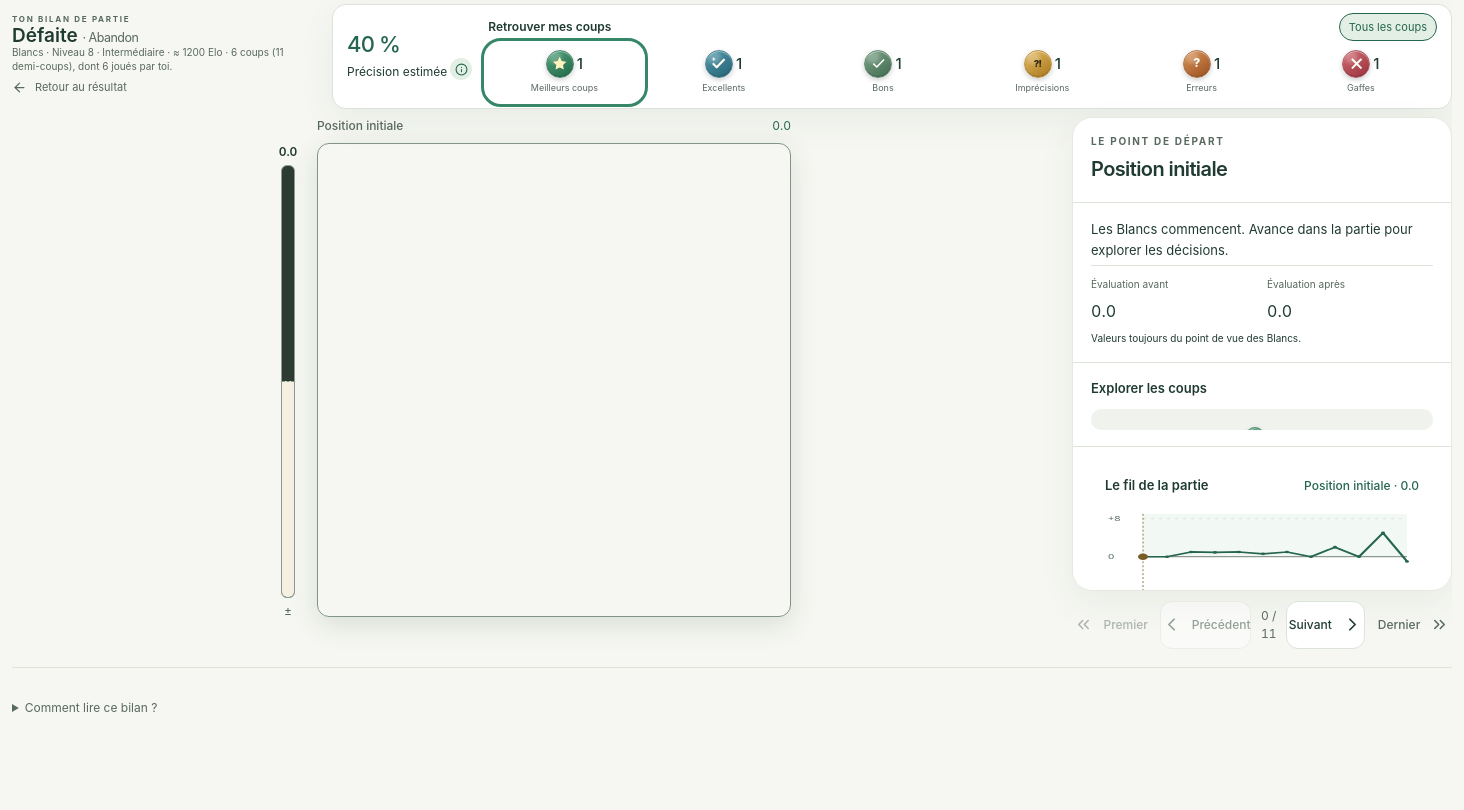
Test: Bilan : filtres de classifications synchronisés › n’affiche aucune alternative quand le coup joué était déjà le meilleur
Click the button with aria-label "Meilleurs coups, 1 coup" at (564, 72), box [488,45,641,100]
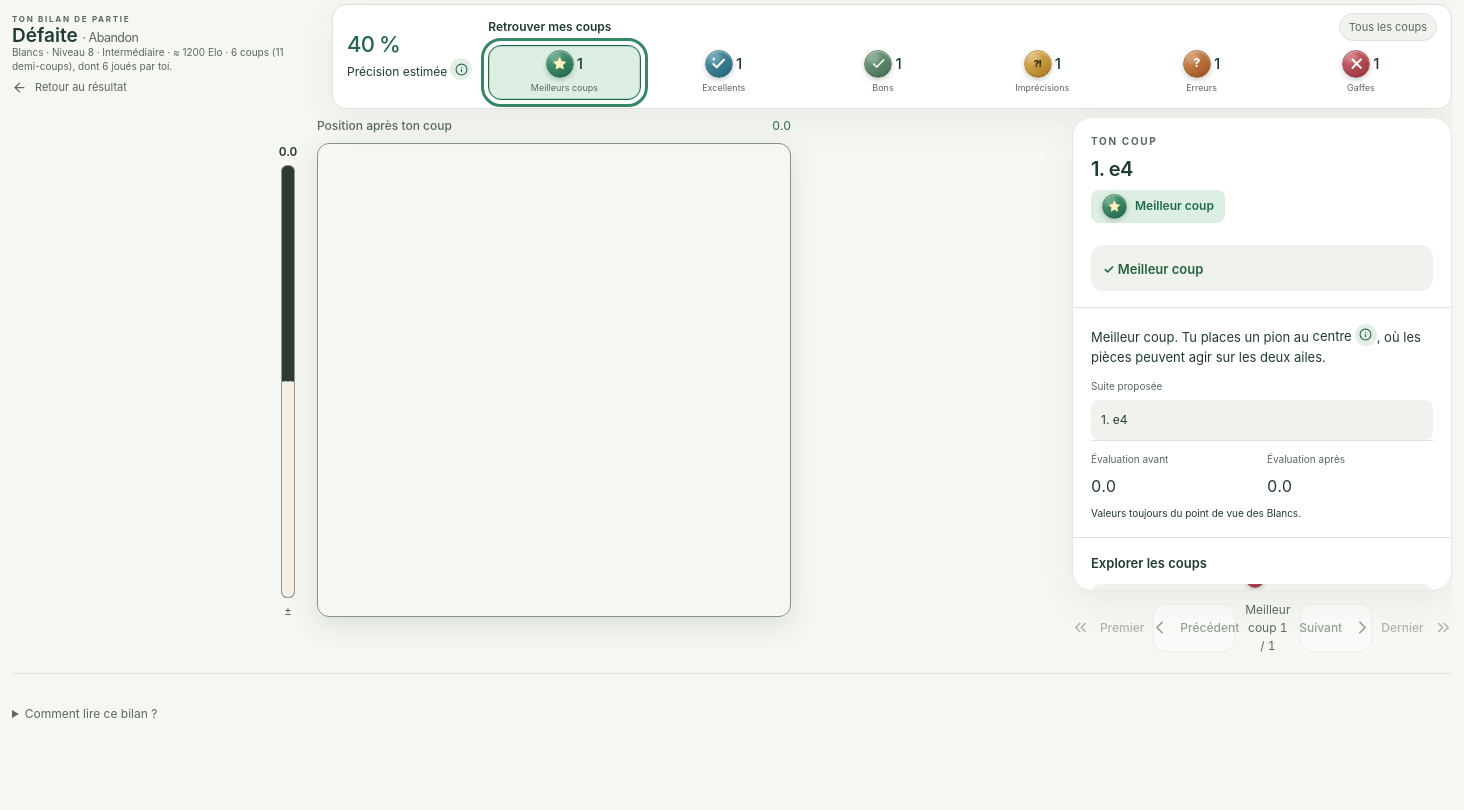
Expected: the text with test id "review-position" reads "Meilleur coup 1 / 1", [1245,602,1290,652]
Expected: the text "✓ Meilleur coup" is shown, [1103,260,1203,276]
